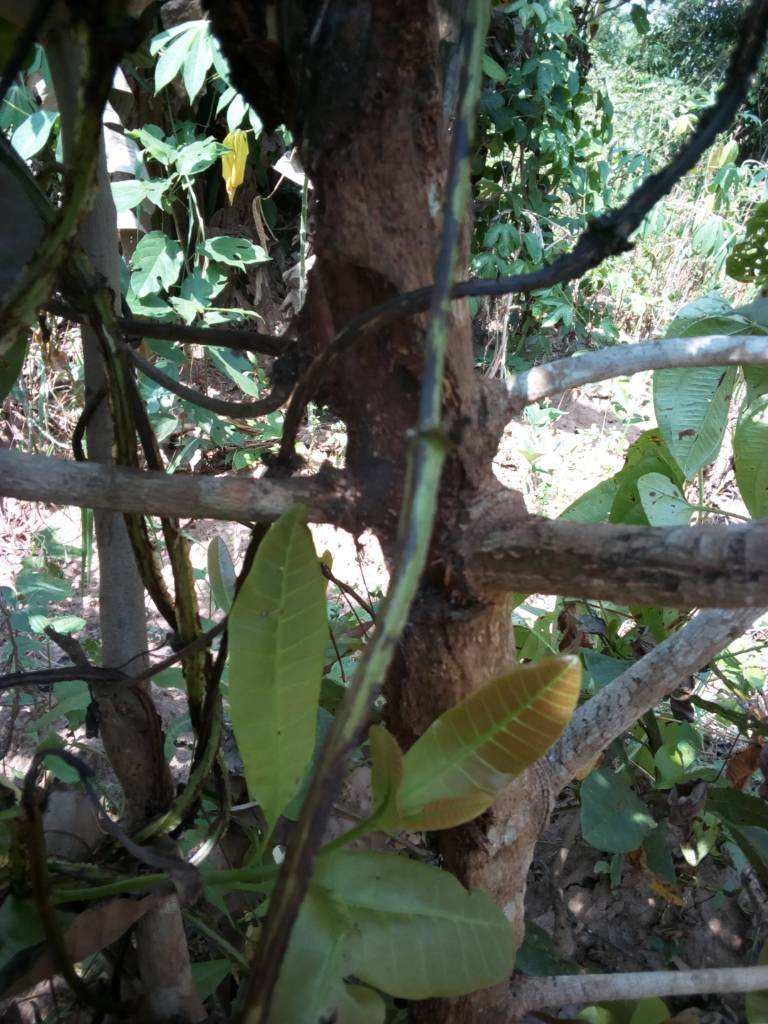ploceadorus ferrugineus: (244, 239, 485, 642)
